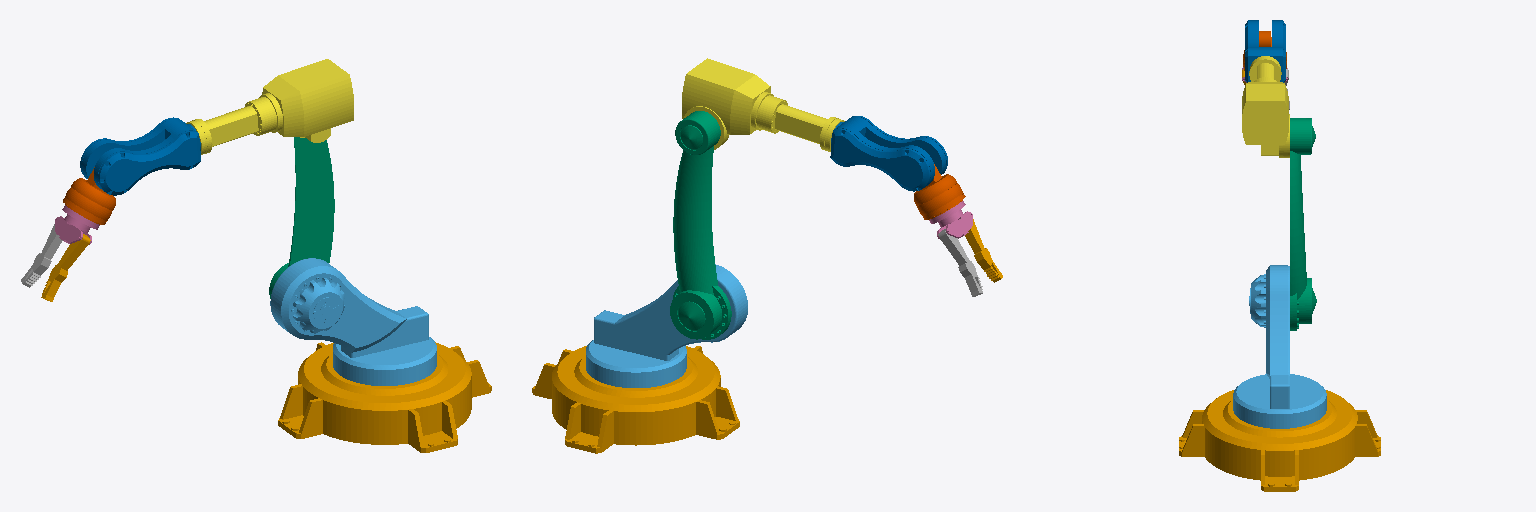
URDF robot description (base):
<?xml version="1.0" encoding="utf-8"?>
<robot name="base">
<link name="Base_1">
<visual><origin xyz="0 0 0" rpy="0 0 0"/><geometry><mesh filename="meshes/Base_1.stl" scale="0.001 0.001 0.001"/></geometry></visual>
<collision><origin xyz="0 0 0" rpy="0 0 0"/><geometry><mesh filename="meshes/Base_1.stl" scale="0.001 0.001 0.001"/></geometry></collision>
</link>
<link name="jawpart1_1">
<visual><origin xyz="0 0 -0.084" rpy="0 0 0"/><geometry><mesh filename="meshes/jawpart1_1.stl" scale="0.001 0.001 0.001"/></geometry></visual>
<collision><origin xyz="0 0 -0.084" rpy="0 0 0"/><geometry><mesh filename="meshes/jawpart1_1.stl" scale="0.001 0.001 0.001"/></geometry></collision>
</link>
<link name="jaw2_1">
<visual><origin xyz="0.244 -0.15 0" rpy="1.5707963267948966 0 -1.5707963267948966"/><geometry><mesh filename="meshes/jaw2_1.stl" scale="0.001 0.001 0.001"/></geometry></visual>
<collision><origin xyz="0.244 -0.15 0" rpy="1.5707963267948966 0 -1.5707963267948966"/><geometry><mesh filename="meshes/jaw2_1.stl" scale="0.001 0.001 0.001"/></geometry></collision>
</link>
<link name="jaw3_1">
<visual><origin xyz="-0.02 0.6048130120786515 -0.09765869352165508" rpy="3.141592653589793 1.4835298641951802 1.5707963267948966"/><geometry><mesh filename="meshes/jaw3_1.stl" scale="0.001 0.001 0.001"/></geometry></visual>
<collision><origin xyz="-0.02 0.6048130120786515 -0.09765869352165508" rpy="3.141592653589793 1.4835298641951802 1.5707963267948966"/><geometry><mesh filename="meshes/jaw3_1.stl" scale="0.001 0.001 0.001"/></geometry></collision>
</link>
<link name="jaw4_1">
<visual><origin xyz="0.32365869352165516 -0.028 0.649813012078651" rpy="-3.141592653589793 -0.0872664625997166 0"/><geometry><mesh filename="meshes/jaw4_1.stl" scale="0.001 0.001 0.001"/></geometry></visual>
<collision><origin xyz="0.32365869352165516 -0.028 0.649813012078651" rpy="-3.141592653589793 -0.0872664625997166 0"/><geometry><mesh filename="meshes/jaw4_1.stl" scale="0.001 0.001 0.001"/></geometry></collision>
</link>
<link name="jaw5_1">
<visual><origin xyz="-0.0505 0.1701018707063957 0.808307623875101" rpy="-3.141592653589793 -0.9599310885968815 -1.5707963267948966"/><geometry><mesh filename="meshes/jaw5_1.stl" scale="0.001 0.001 0.001"/></geometry></visual>
<collision><origin xyz="-0.0505 0.1701018707063957 0.808307623875101" rpy="-3.141592653589793 -0.9599310885968815 -1.5707963267948966"/><geometry><mesh filename="meshes/jaw5_1.stl" scale="0.001 0.001 0.001"/></geometry></collision>
</link>
<link name="jaw6_1">
<visual><origin xyz="0.07510187039347108 -0.0285 -0.8083076238751005" rpy="0 0.959931088596881 -3.141592653589793"/><geometry><mesh filename="meshes/jaw6_1.stl" scale="0.001 0.001 0.001"/></geometry></visual>
<collision><origin xyz="0.07510187039347108 -0.0285 -0.8083076238751005" rpy="0 0.959931088596881 -3.141592653589793"/><geometry><mesh filename="meshes/jaw6_1.stl" scale="0.001 0.001 0.001"/></geometry></collision>
</link>
<link name="finger1_1">
<visual><origin xyz="-0.02600376336680526 0.03545414844033102 -0.8173076238751003" rpy="0 0.959931088596881 -1.2217304763959853"/><geometry><mesh filename="meshes/finger1_1.stl" scale="0.001 0.001 0.001"/></geometry></visual>
<collision><origin xyz="-0.02600376336680526 0.03545414844033102 -0.8173076238751003" rpy="0 0.959931088596881 -1.2217304763959853"/><geometry><mesh filename="meshes/finger1_1.stl" scale="0.001 0.001 0.001"/></geometry></collision>
</link>
<link name="finger2_1">
<visual><origin xyz="-0.0778725506541384 0.022832926441234493 0.799307623875101" rpy="-3.141592653589793 -0.9599310885968814 -1.3089969389957923"/><geometry><mesh filename="meshes/finger2_1.stl" scale="0.001 0.001 0.001"/></geometry></visual>
<collision><origin xyz="-0.0778725506541384 0.022832926441234493 0.799307623875101" rpy="-3.141592653589793 -0.9599310885968814 -1.3089969389957923"/><geometry><mesh filename="meshes/finger2_1.stl" scale="0.001 0.001 0.001"/></geometry></collision>
</link>
<joint name="Revolute6" type="revolute"><origin xyz="0 0 0.084" rpy="0 0 0"/><parent link="Base_1"/><child link="jawpart1_1"/><axis xyz="0 0 -1"/><limit upper="3.141592653589793" lower="-3.141592653589793" effort="100" velocity="100"/></joint>
<joint name="Revolute7" type="revolute"><origin xyz="-0.15 0 0.16" rpy="0 1.5707963267948966 1.5707963267948966"/><parent link="jawpart1_1"/><child link="jaw2_1"/><axis xyz="0 0 -1"/><limit upper="3.141592653589793" lower="-3.141592653589793" effort="100" velocity="100"/></joint>
<joint name="Revolute8" type="revolute"><origin xyz="-0.35000000000000003 0 0.02" rpy="0 -1.5707963267948966 -1.658062789394613"/><parent link="jaw2_1"/><child link="jaw3_1"/><axis xyz="1 0 0"/><limit upper="3.141592653589793" lower="-3.141592653589793" effort="100" velocity="100"/></joint>
<joint name="Revolute9" type="revolute"><origin xyz="-0.048 -0.045000000000000005 0.226" rpy="0 1.5707963267948966 1.5707963267948966"/><parent link="jaw3_1"/><child link="jaw4_1"/><axis xyz="-1 0 0"/><limit upper="3.141592653589793" lower="-3.141592653589793" effort="100" velocity="100"/></joint>
<joint name="Revolute10" type="revolute"><origin xyz="-0.18620149520399865 0.022500000000000003 -6.270618220824531e-05" rpy="0.8726646259971645 0 1.5707963267948966"/><parent link="jaw4_1"/><child link="jaw5_1"/><axis xyz="-1 0 0"/><limit upper="3.141592653589793" lower="-3.141592653589793" effort="100" velocity="100"/></joint>
<joint name="Revolute11" type="revolute"><origin xyz="-0.022000000000000002 0.09500000031292441 0" rpy="3.141592653589793 0 1.5707963267948966"/><parent link="jaw5_1"/><child link="jaw6_1"/><axis xyz="-1 0 0"/><limit upper="3.141592653589793" lower="-3.141592653589793" effort="100" velocity="100"/></joint>
<joint name="Revolute14" type="revolute"><origin xyz="0.03289205785412248 -0.040809511617408936 0.009000000000000001" rpy="0 0 -1.919862177193762"/><parent link="jaw6_1"/><child link="finger1_1"/><axis xyz="0 0 -1"/><limit upper="1.5707963267948966" lower="0" effort="100" velocity="100"/></joint>
<joint name="Revolute15" type="revolute"><origin xyz="0.03289205785412234 0.040809511617408964 -0.009000000000000001" rpy="-3.141592653589793 0 1.8325957145940461"/><parent link="jaw6_1"/><child link="finger2_1"/><axis xyz="0 0 -1"/><limit upper="1.5707963267948966" lower="0" effort="100" velocity="100"/></joint>
</robot>

--- Render facts (derived) ---
3 views of the same robot in one strip: view 1: azimuth 30°, elevation 25°; view 2: azimuth 150°, elevation 25°; view 3: azimuth 270°, elevation 25° (orthographic).
Robot: base — 9 links, 8 joints (8 revolute); root link Base_1; default pose: all joints at 0.
Visible links, largest first — view 1: Base_1, jawpart1_1, jaw3_1, jaw4_1, jaw2_1, jaw5_1, finger2_1, jaw6_1, finger1_1; view 2: Base_1, jaw2_1, jawpart1_1, jaw3_1, jaw4_1, jaw5_1, finger1_1, jaw6_1, finger2_1; view 3: Base_1, jawpart1_1, jaw3_1, jaw2_1, jaw4_1.
Boxes of the visible links, x1=… form: Base_1: x1=278, y1=342, x2=491, y2=452; jawpart1_1: x1=270, y1=258, x2=436, y2=385; jaw3_1: x1=186, y1=59, x2=353, y2=154; jaw4_1: x1=80, y1=117, x2=200, y2=195; jaw2_1: x1=269, y1=137, x2=334, y2=298; jaw5_1: x1=63, y1=167, x2=115, y2=224; finger2_1: x1=41, y1=234, x2=90, y2=301; jaw6_1: x1=55, y1=205, x2=99, y2=244; finger1_1: x1=21, y1=224, x2=62, y2=287; Base_1: x1=532, y1=346, x2=739, y2=453; jaw2_1: x1=670, y1=111, x2=731, y2=339; jawpart1_1: x1=586, y1=264, x2=747, y2=387; jaw3_1: x1=682, y1=58, x2=844, y2=151; jaw4_1: x1=830, y1=116, x2=947, y2=191; jaw5_1: x1=914, y1=164, x2=965, y2=219; finger1_1: x1=938, y1=229, x2=982, y2=296; jaw6_1: x1=929, y1=201, x2=972, y2=238; finger2_1: x1=965, y1=219, x2=1002, y2=282; Base_1: x1=1179, y1=390, x2=1380, y2=491; jawpart1_1: x1=1233, y1=265, x2=1326, y2=428; jaw3_1: x1=1242, y1=56, x2=1289, y2=157; jaw2_1: x1=1290, y1=118, x2=1316, y2=330; jaw4_1: x1=1245, y1=20, x2=1285, y2=82.
Size in the robot's own frame: 0.9129 by 0.3904 by 0.688 metres.
9 mesh visuals loaded from 9 distinct referenced files (9 binary STL).
